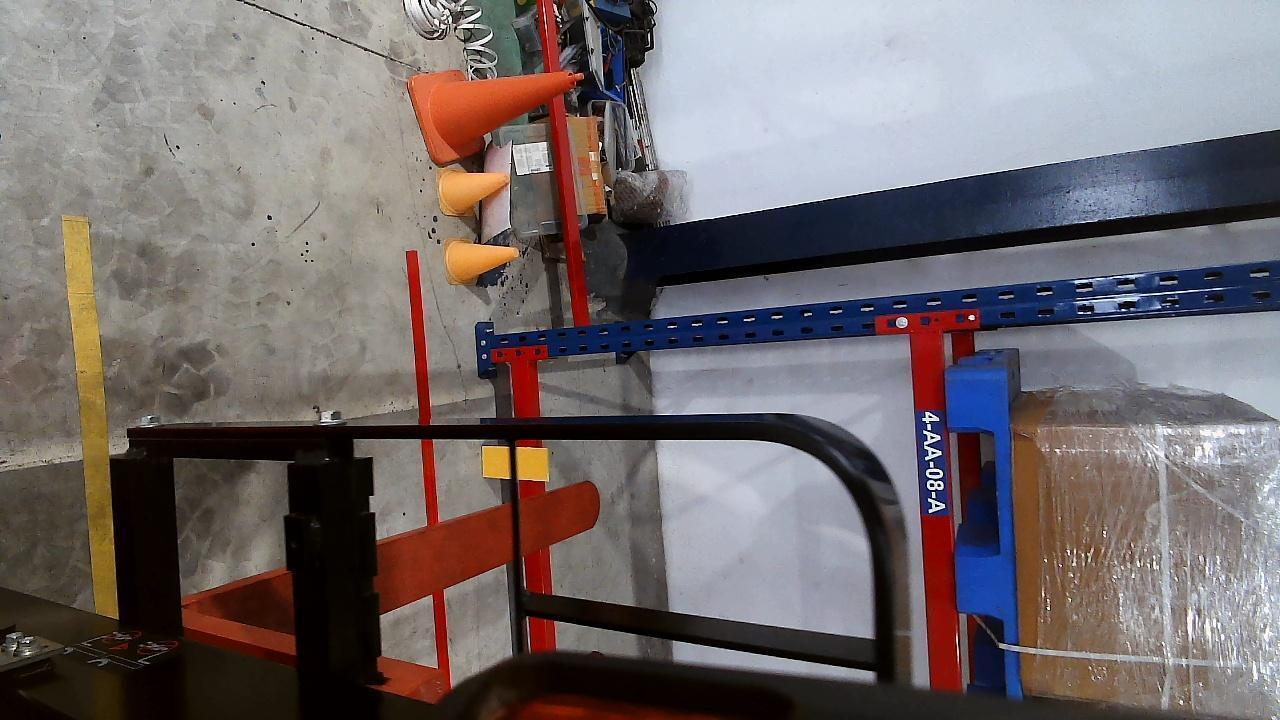red_line: (404, 248, 457, 666)
yellow_line: (59, 214, 120, 624)
